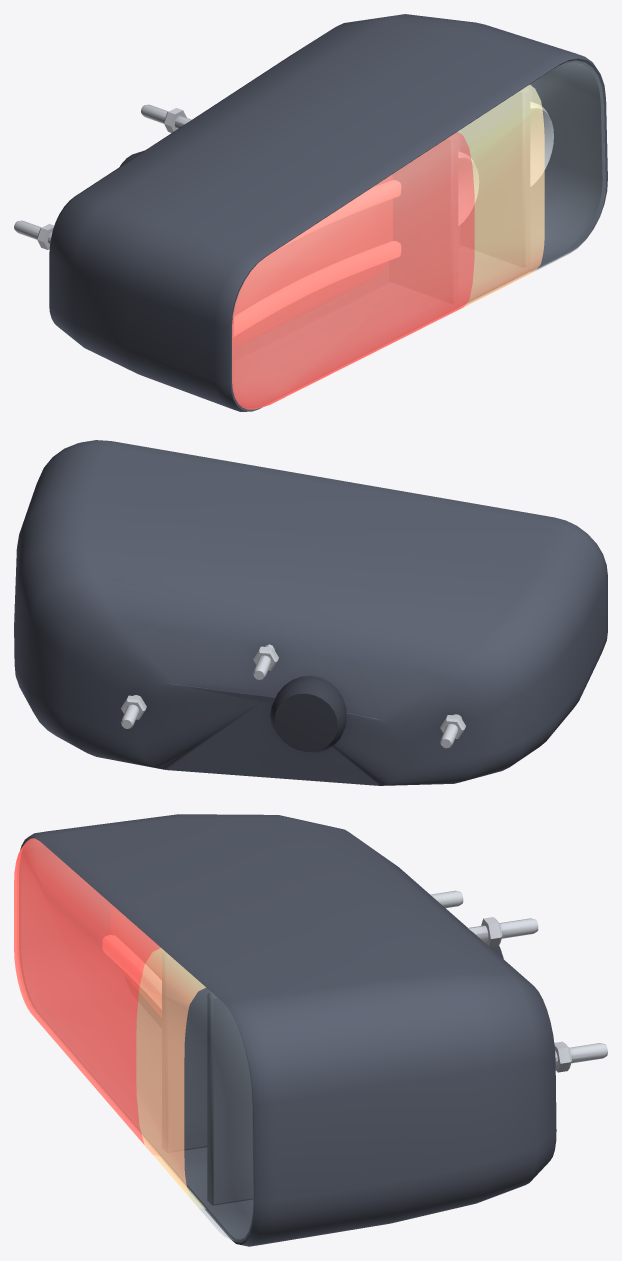
The model's file is taillight.glb.
The picture shows the model from 3 angles, top to bottom: view 1: azimuth 30°, elevation 25°; view 2: azimuth 150°, elevation 25°; view 3: azimuth 270°, elevation 25°; orthographic projection. The views are drawn at different scales.
Visible parts, largest first — view 1: tail-light_body, tail-light_lens_red_glass, tail-light_lens_amber_glass, tail-light_lens_clear_glass, tail-light_led_glow; view 2: tail-light_body; view 3: tail-light_body, tail-light_lens_red_glass, tail-light_lens_clear_glass, tail-light_lens_amber_glass, tail-light_led_glow.
Part boxes in pixels (bbox=[...]): tail-light_body: bbox=[14, 14, 607, 411]; tail-light_lens_red_glass: bbox=[232, 131, 474, 409]; tail-light_lens_amber_glass: bbox=[458, 84, 544, 307]; tail-light_lens_clear_glass: bbox=[530, 60, 605, 270]; tail-light_led_glow: bbox=[234, 180, 400, 336]; tail-light_body: bbox=[14, 440, 607, 785]; tail-light_body: bbox=[19, 814, 607, 1246]; tail-light_lens_red_glass: bbox=[14, 838, 160, 1155]; tail-light_lens_clear_glass: bbox=[184, 988, 253, 1242]; tail-light_lens_amber_glass: bbox=[136, 948, 205, 1208]; tail-light_led_glow: bbox=[103, 935, 161, 1008].
Size of the model in its own units: 0.4117 by 0.1449 by 0.3369.
Materials: 7 (1 with a texture image).
